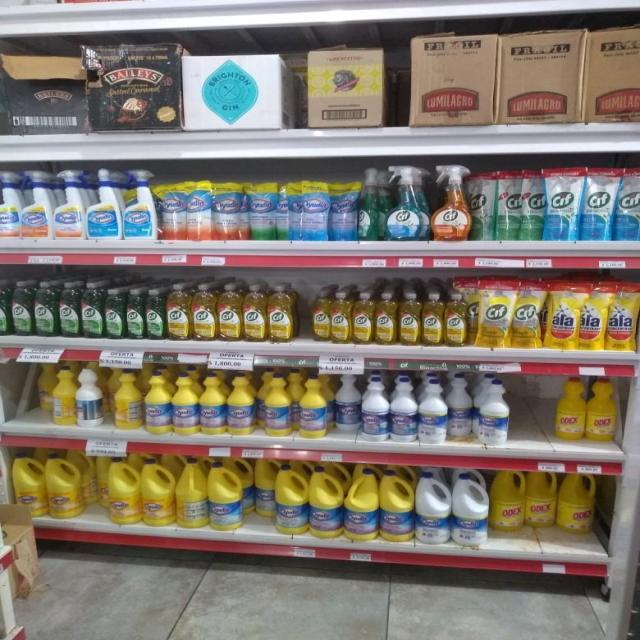ala_sachet_amarillo: (546, 280, 580, 350), (607, 282, 638, 352), (580, 280, 606, 351)
cif_conc_bot_amarilla: (267, 284, 296, 342), (166, 283, 191, 341), (218, 283, 242, 342), (192, 283, 216, 342), (242, 284, 266, 342), (444, 292, 468, 347), (398, 292, 421, 346), (375, 292, 397, 346), (352, 292, 374, 345), (422, 292, 443, 346), (331, 292, 351, 344), (311, 290, 330, 342)
cif_conc_botella_verde: (34, 281, 58, 337), (82, 282, 104, 339), (11, 280, 33, 336), (59, 282, 80, 338), (145, 288, 165, 340), (105, 287, 124, 340), (126, 288, 144, 340), (0, 279, 10, 336)
cif_conc_sachet_amarillo: (475, 278, 511, 348), (512, 278, 544, 348)
